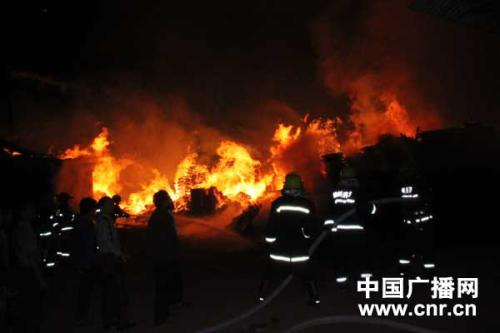fire: (84, 135, 256, 185)
